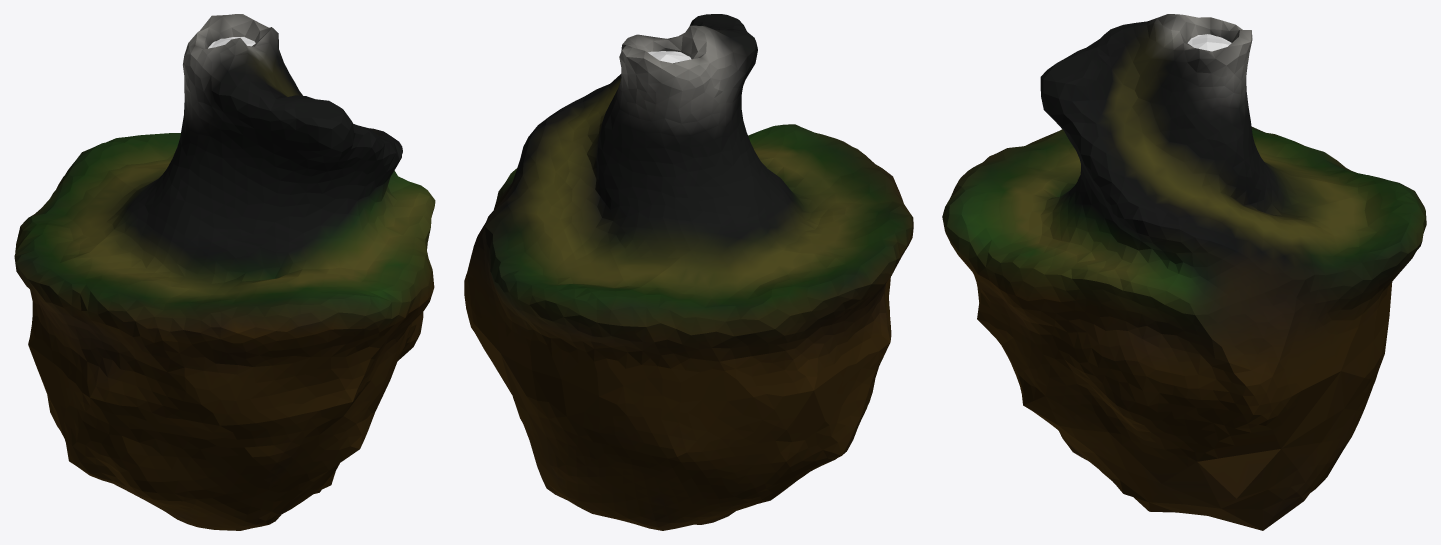
File: Island2.fbx
3 renders of one model, left to right at view 1: azimuth 30°, elevation 25°; view 2: azimuth 150°, elevation 25°; view 3: azimuth 270°, elevation 25°, orthographic.
Parts seen in each view (by area): view 1: Icosphere; view 2: Icosphere; view 3: Icosphere.
Boxes of the visible parts, left/top/right/bottom form: Icosphere: left=14, top=14, right=435, bottom=530; Icosphere: left=464, top=14, right=913, bottom=530; Icosphere: left=942, top=14, right=1426, bottom=530.
Bounding box in the file's own units: 2045 × 2419 × 2199.
